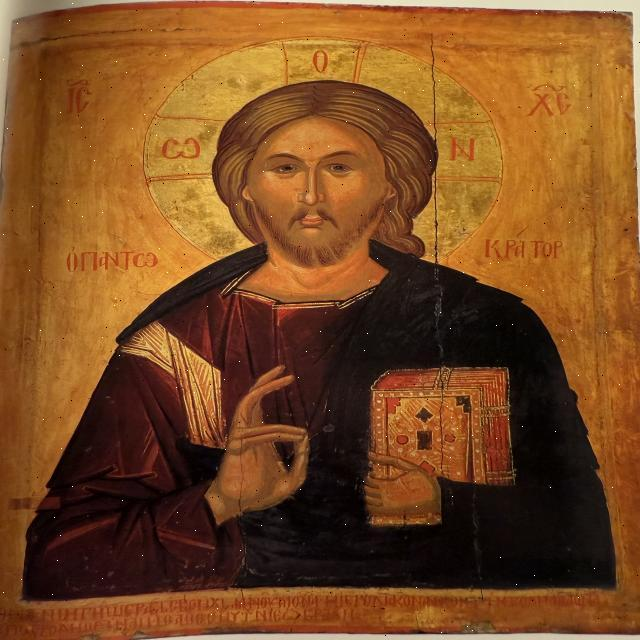aura: (146, 35, 504, 261)
book: (362, 361, 528, 527)
christ: (27, 35, 625, 595)
christ_hand: (187, 366, 325, 526)
